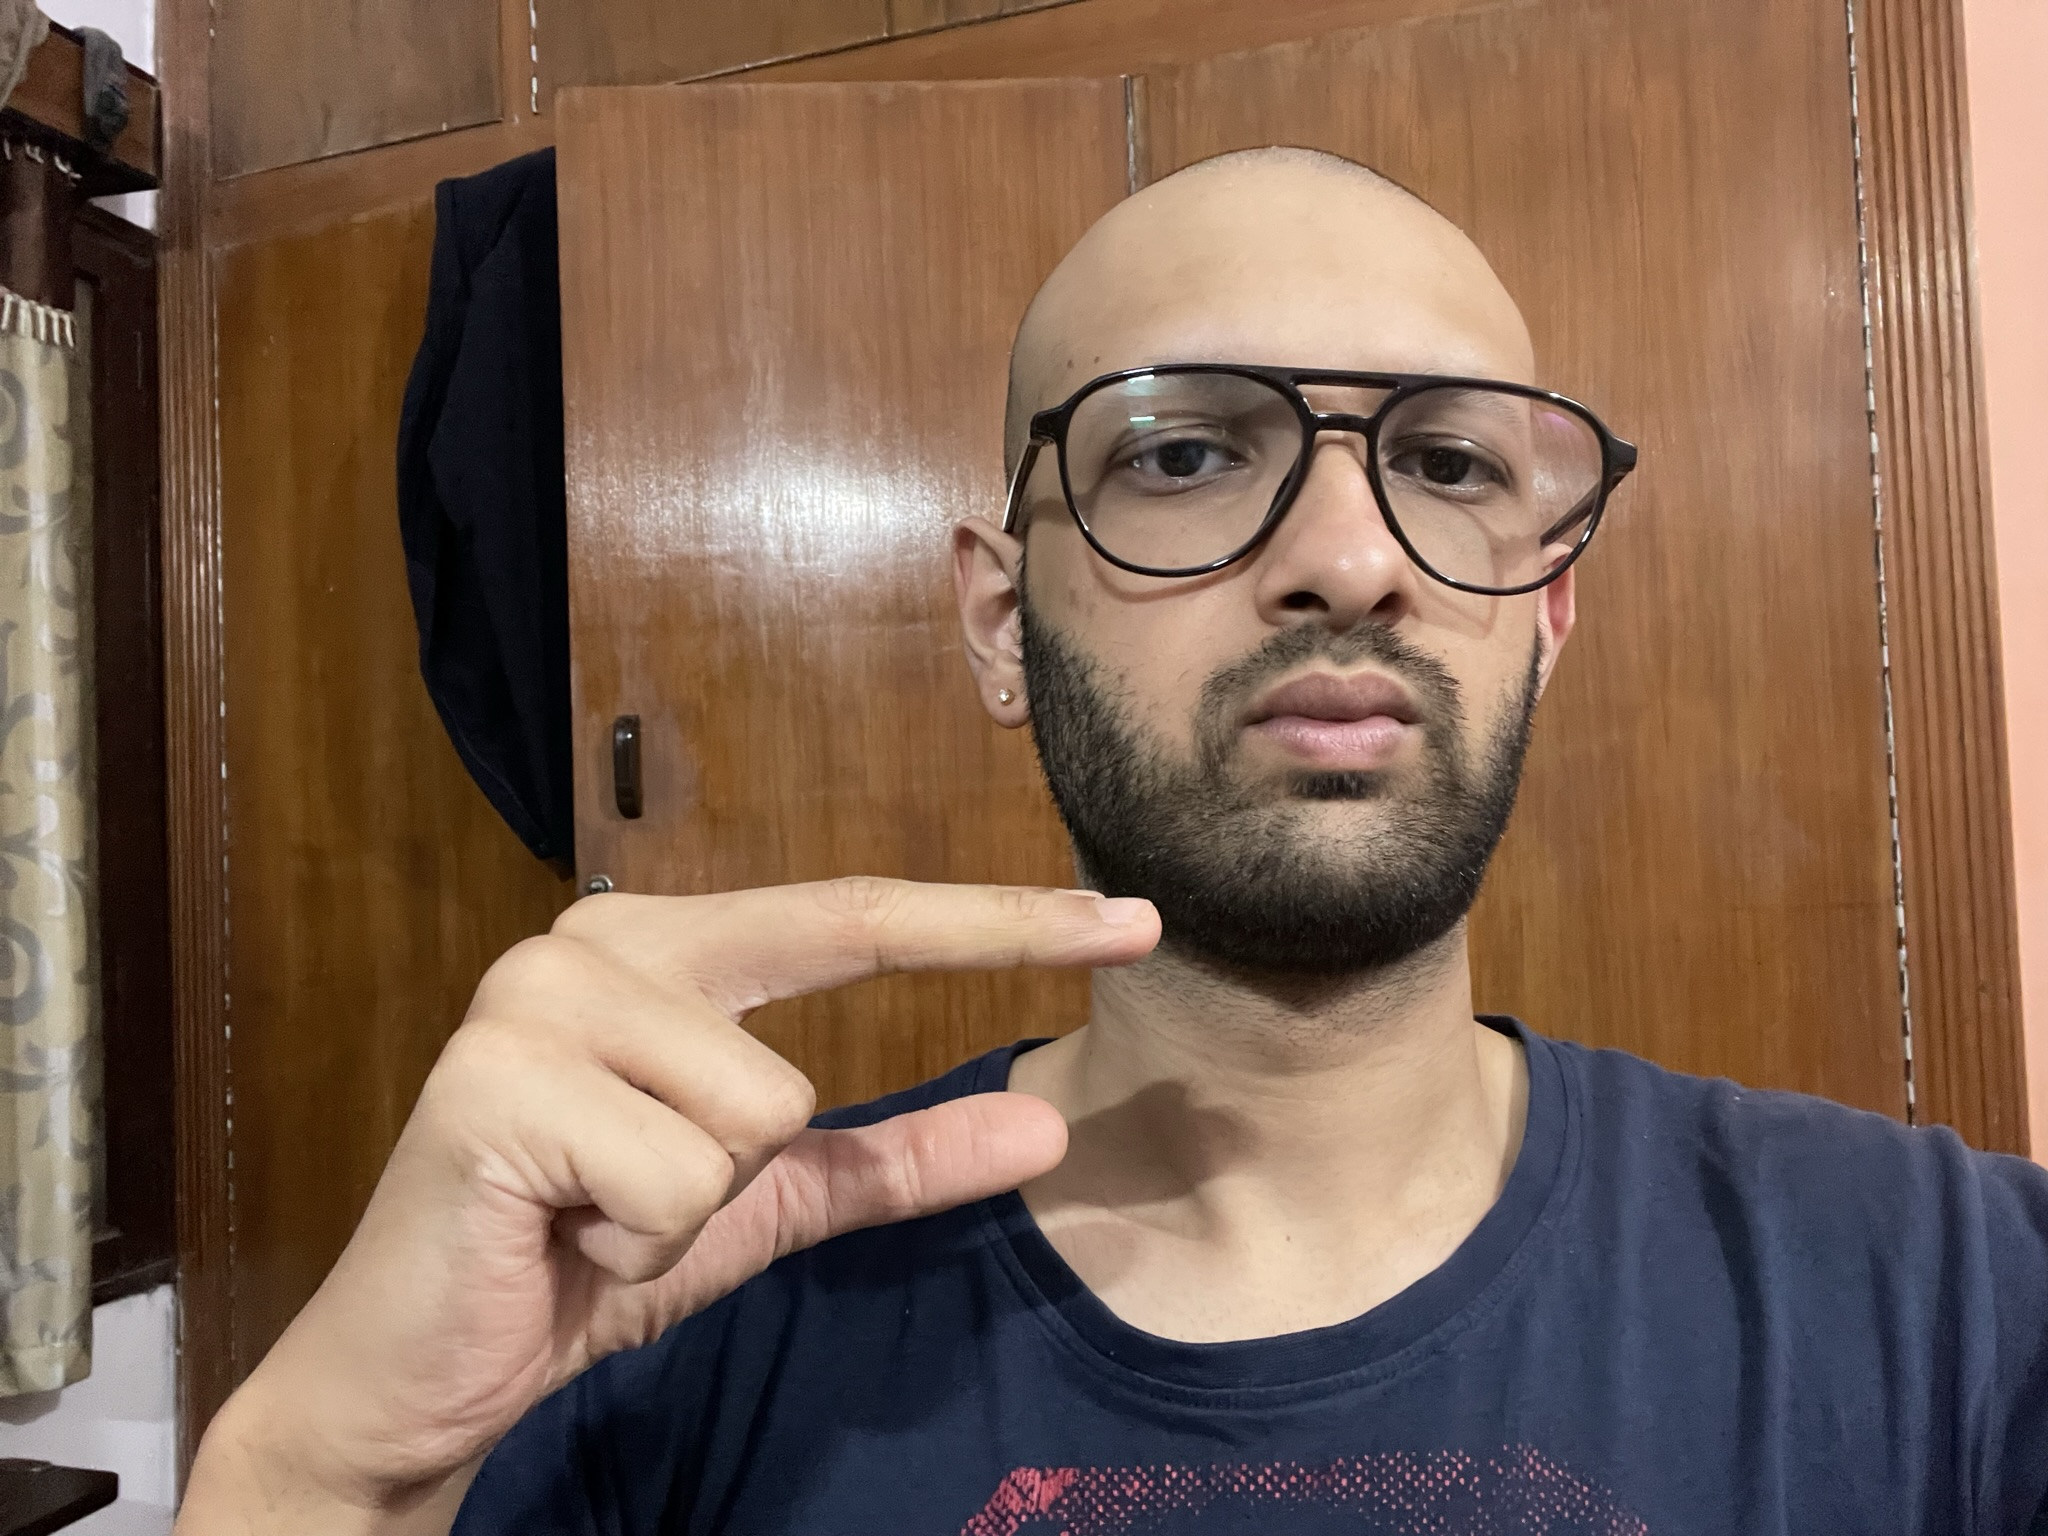No: (185, 858, 1168, 1484)
